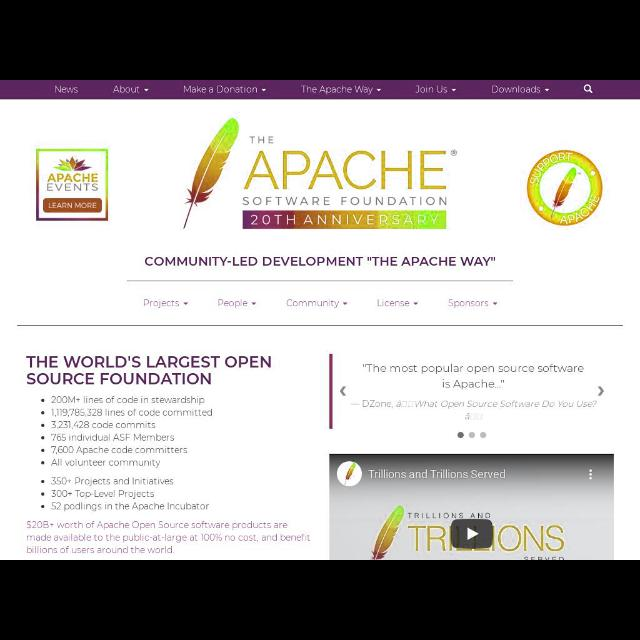icon: (582, 84, 594, 94), (339, 382, 346, 398), (598, 385, 604, 399), (492, 301, 500, 307), (144, 86, 150, 92), (376, 86, 382, 92), (451, 86, 457, 92), (413, 301, 419, 307), (544, 88, 550, 92), (344, 302, 348, 308), (262, 88, 266, 92), (184, 302, 188, 306), (252, 302, 256, 306)
image: (173, 112, 463, 238), (331, 454, 614, 558), (518, 143, 608, 229), (34, 146, 112, 222)
multitab: (128, 282, 516, 321)
pageindicator: (456, 429, 488, 439)
spinner: (180, 82, 268, 96), (284, 295, 352, 313), (299, 82, 385, 96), (444, 294, 502, 314), (488, 82, 554, 96), (213, 294, 259, 314), (372, 294, 422, 312), (140, 294, 192, 310), (412, 82, 461, 96), (110, 82, 152, 96)
text: (39, 392, 215, 514), (22, 518, 314, 556), (23, 350, 279, 388), (362, 362, 586, 390), (145, 252, 498, 268), (351, 398, 599, 420), (302, 84, 372, 94), (183, 85, 257, 94), (492, 84, 540, 94), (286, 300, 340, 308), (447, 298, 489, 308), (144, 298, 180, 308), (416, 84, 448, 95), (376, 298, 409, 308), (54, 84, 78, 95), (217, 299, 247, 307), (114, 85, 140, 93)
toolbar: (1, 82, 639, 98)
